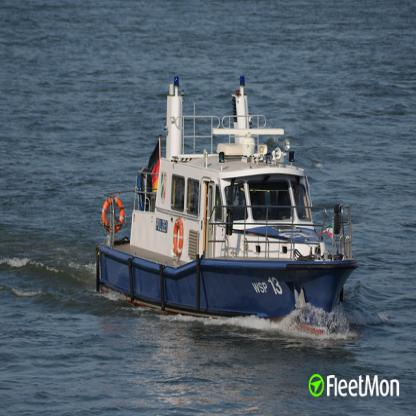Patrol Boat: (95, 75, 359, 337)
